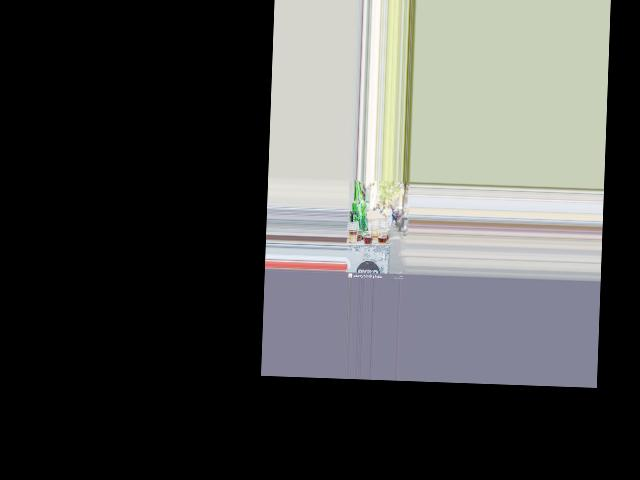beer: (351, 180, 370, 238)
